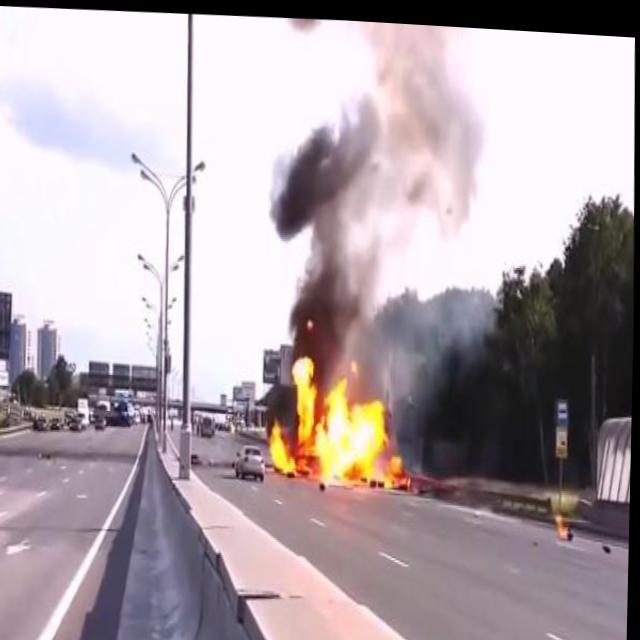fire: (268, 329, 415, 493), (555, 503, 575, 533)
